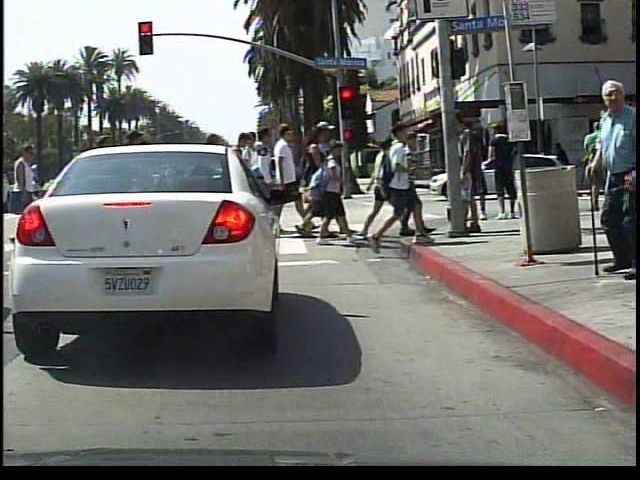person: (561, 74, 639, 287)
